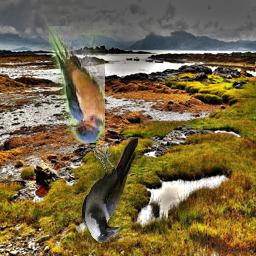Crow: (82, 138, 138, 242)
Swallow: (49, 27, 105, 144)
